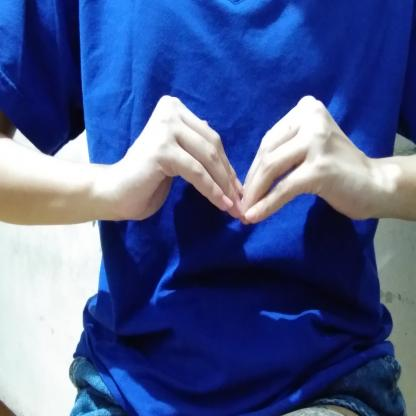how: (102, 86, 382, 240)
